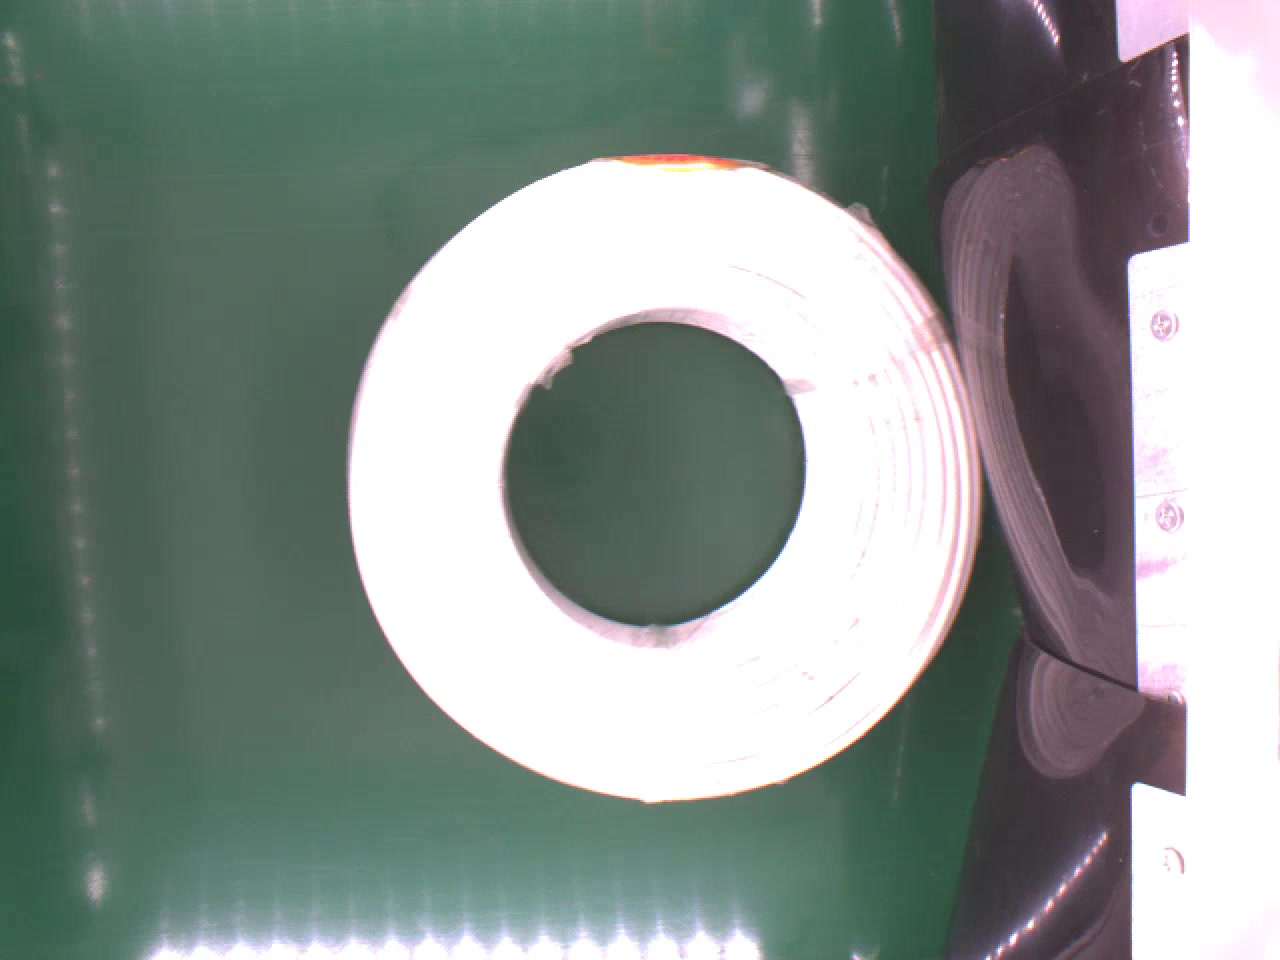white: (345, 152, 983, 801)
